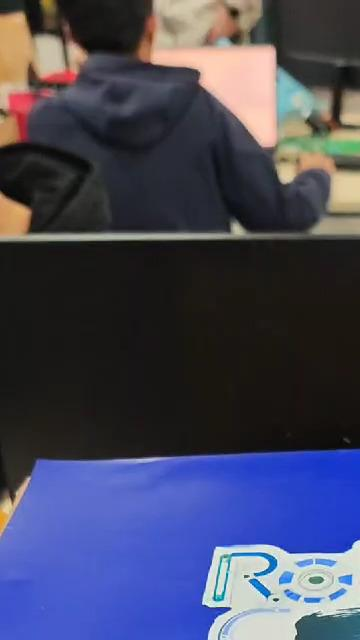B_R1: (1, 531, 360, 640)
